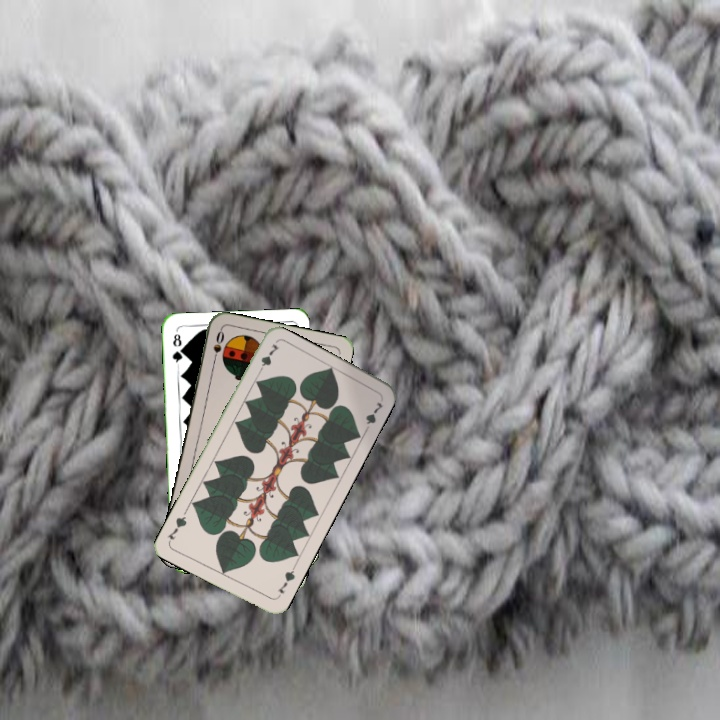G7: (254, 340, 282, 378), (273, 563, 298, 600)
G8: (169, 330, 185, 368)
SO: (209, 326, 227, 366)
